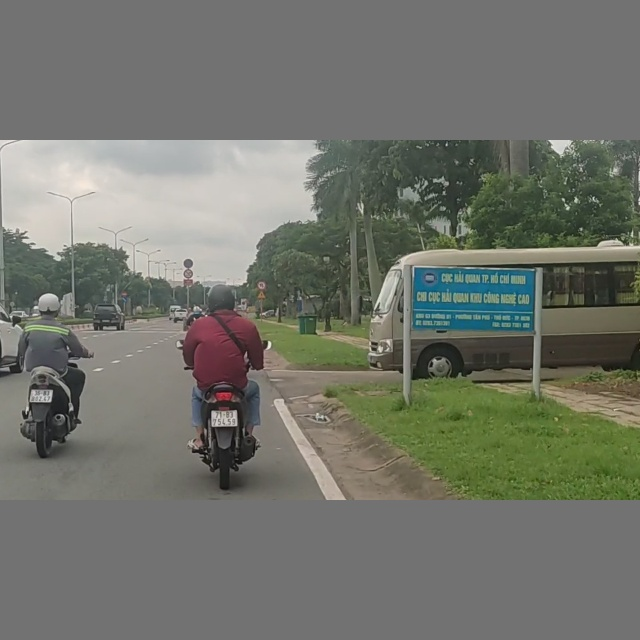P.102: (121, 290, 128, 297)
P.111: (184, 269, 193, 279)
P.124a*: (257, 281, 267, 289)
P.130: (183, 259, 193, 268)
R.302a: (121, 297, 128, 303)
W.224: (257, 291, 267, 299)
